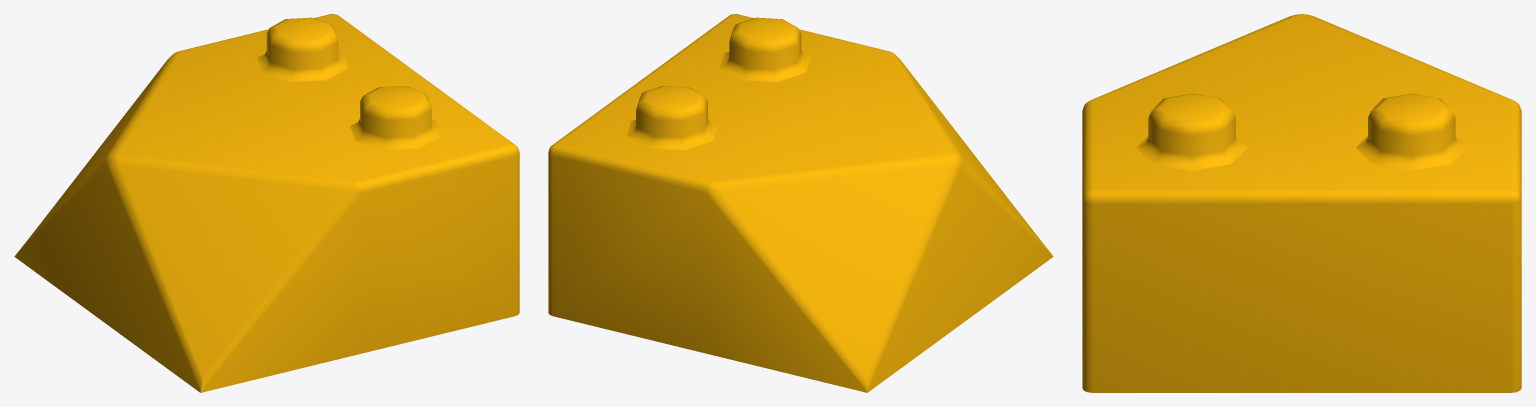
File: Bevel_Two_Vertex_Parallel_Half.fbx
The picture shows the model from 3 angles, left to right: view 1: azimuth 30°, elevation 25°; view 2: azimuth 150°, elevation 25°; view 3: azimuth 270°, elevation 25°; orthographic projection. The views are drawn at different scales.
Visible parts, largest first — view 1: Bevel_Two_Vertex_Parallel_Half, Knobs.017; view 2: Bevel_Two_Vertex_Parallel_Half, Knobs.017; view 3: Bevel_Two_Vertex_Parallel_Half, Knobs.017.
Boxes of the visible parts, x1,y1,x2,y2 form: Bevel_Two_Vertex_Parallel_Half: (14,14,519,392); Knobs.017: (257,17,441,150); Bevel_Two_Vertex_Parallel_Half: (548,14,1053,392); Knobs.017: (626,17,810,150); Bevel_Two_Vertex_Parallel_Half: (1082,14,1521,392); Knobs.017: (1136,93,1467,170).
Size of the model in its own units: 1 by 0.6 by 1.
